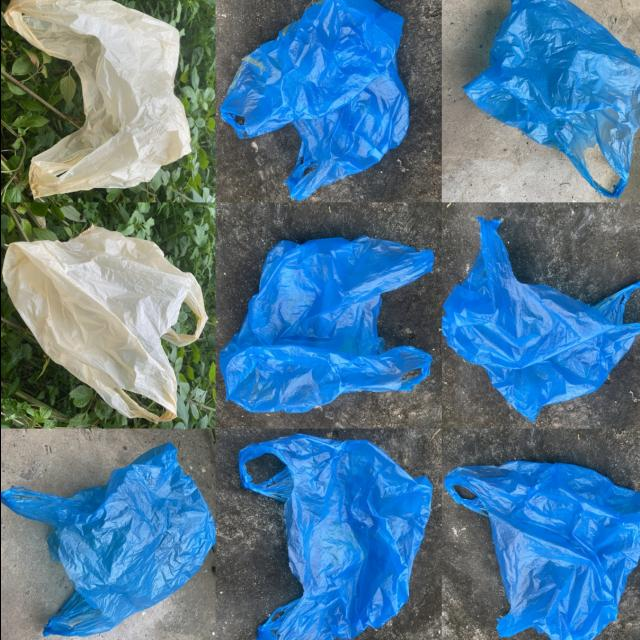plastik: (0, 443, 214, 636), (442, 217, 640, 420), (2, 227, 207, 423), (238, 433, 431, 640), (219, 0, 407, 200), (219, 236, 432, 412), (3, 0, 190, 198), (444, 461, 640, 640), (463, 0, 640, 198)
